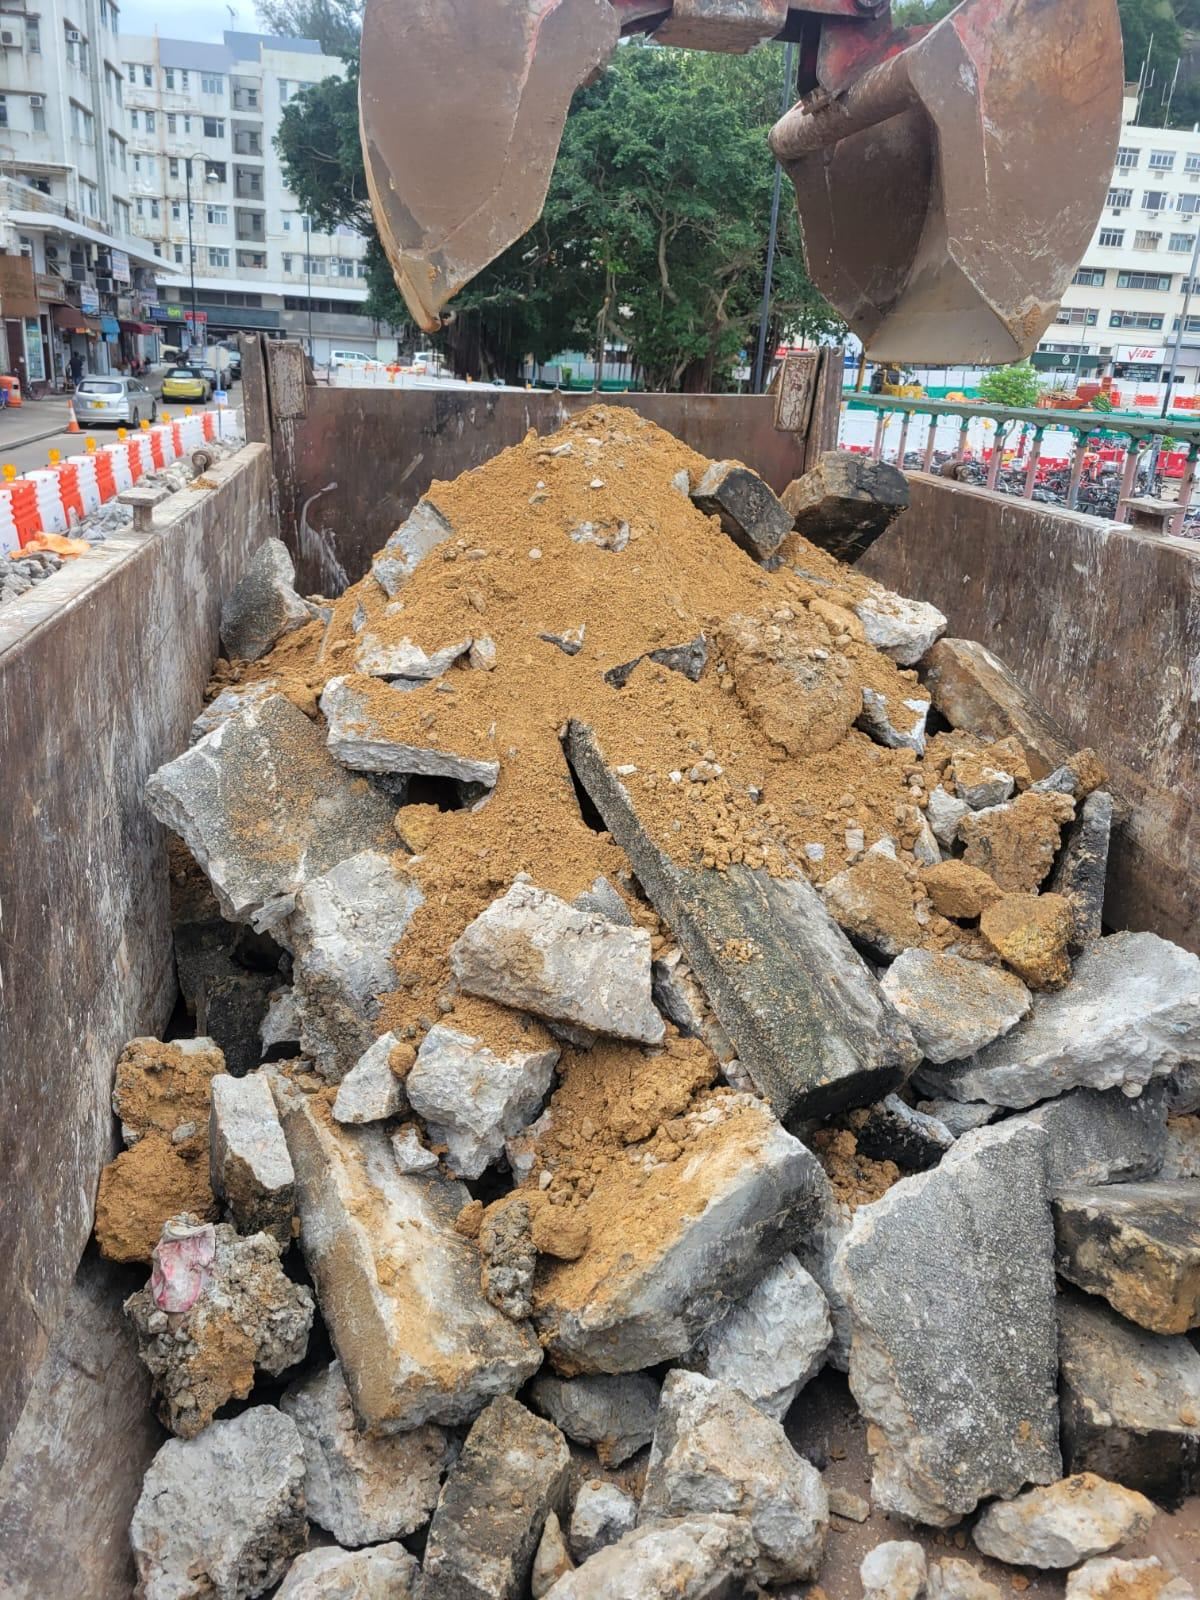dry: (178, 422, 1197, 1572)
